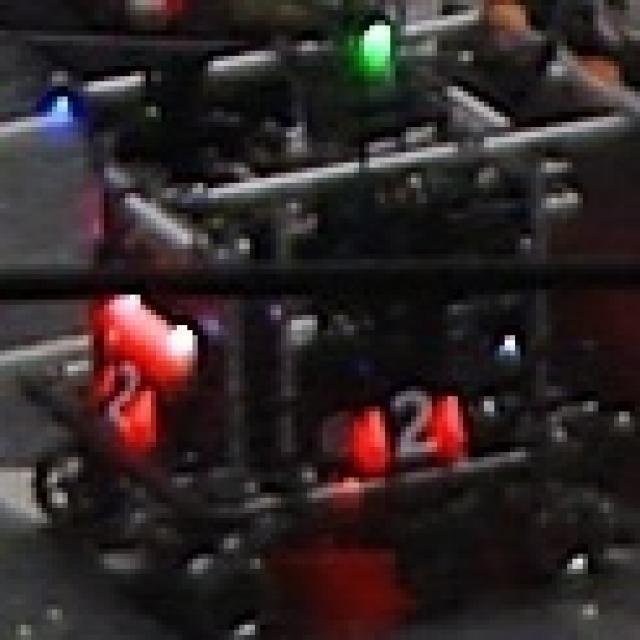R2: (354, 381, 463, 472), (94, 345, 156, 437)
